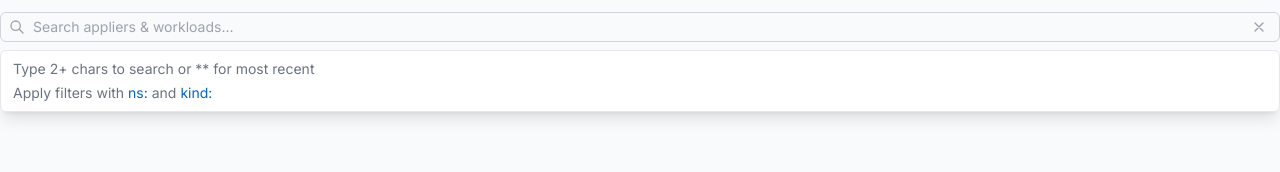
Scenario: QuickSearch › Search Results › should display loading state
The width and height of the screenshot is (1280, 172).
Type "flux" into the field with placeholder "Search appliers & workloads..." at x=636, y=27, box top-left (33, 17), bottom-right (1239, 37)
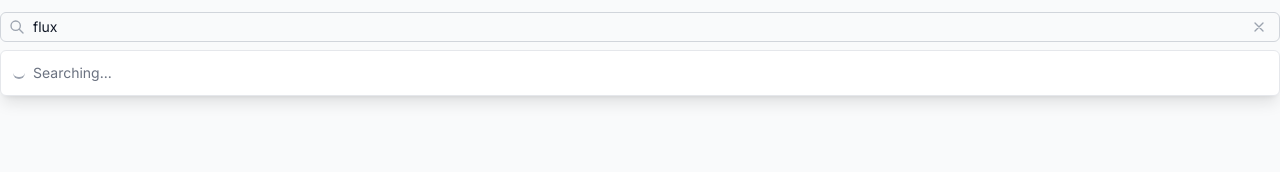
Now the text "Searching..." is shown, box top-left (13, 64), bottom-right (112, 81)
